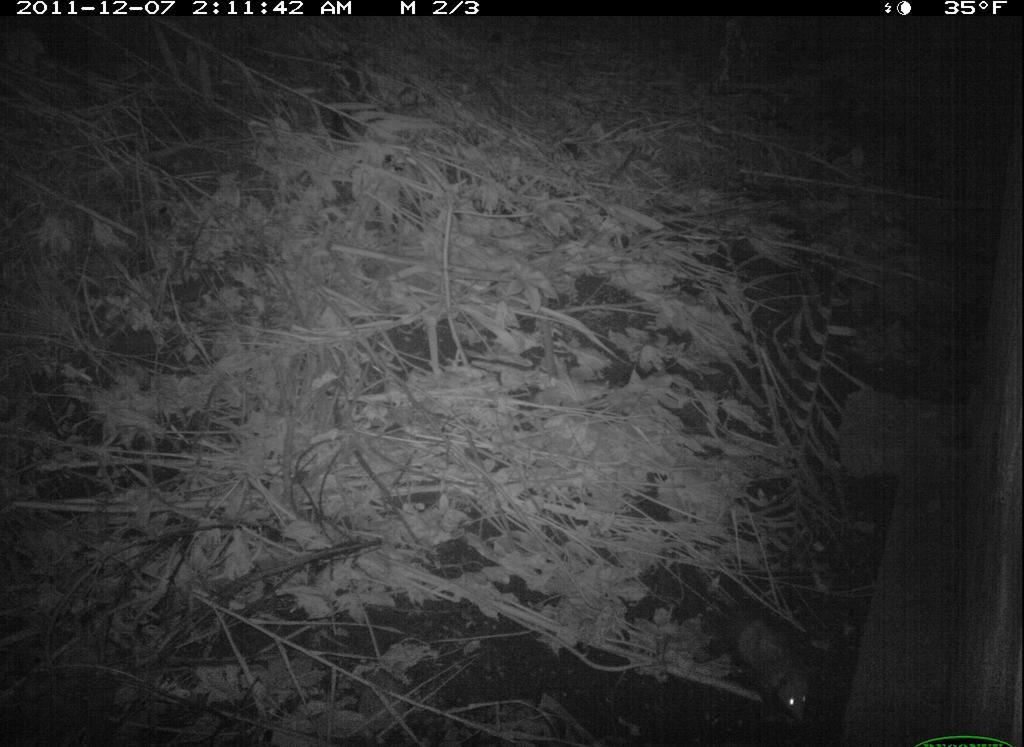opossum: (702, 578, 833, 735)
